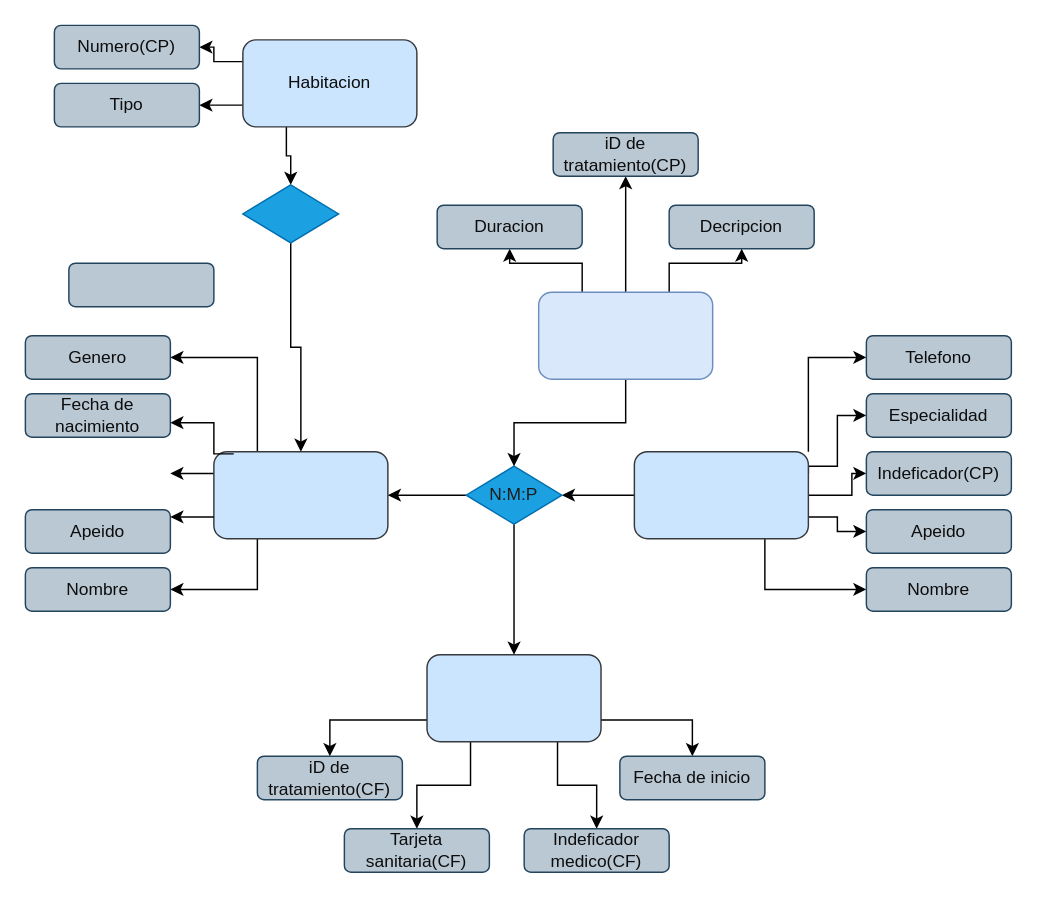
This 1037x898 diagram has some shape labels left out. The centre of each missing label's shape, as x and y in pixels:
"1:M" belongs at pixel 290 213.
"Asignacion de tratamientos" belongs at pixel 513 697.
"Medicos" belongs at pixel 720 494.
"Pacientes" belongs at pixel 300 494.
"Tarjeta sanitaria (CP)" belongs at pixel 140 284.
"Tratamientos" belongs at pixel 625 335.
